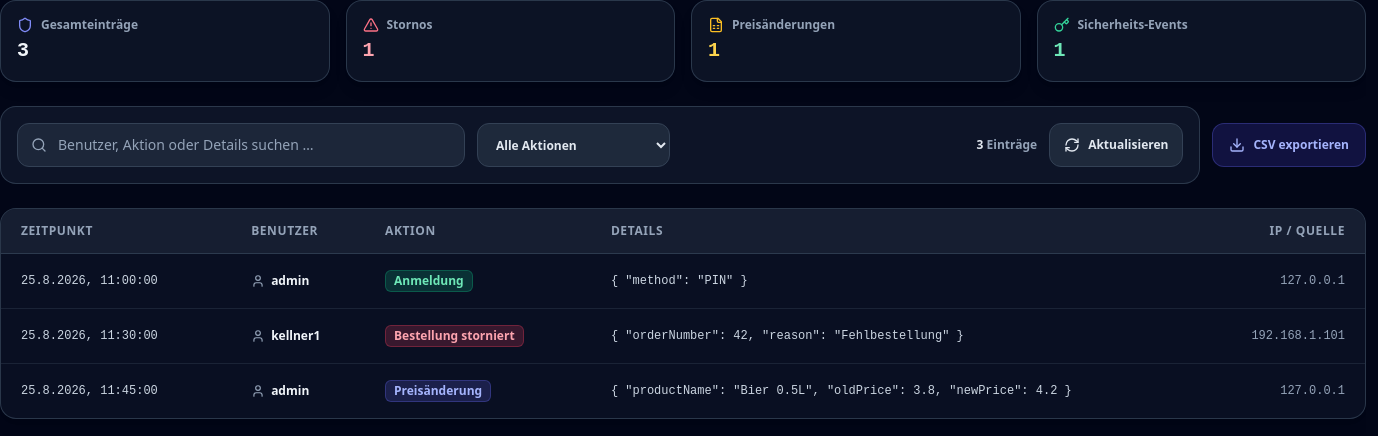
Scenario: AdminAuditView › filtert nach Benutzer oder Aktion
This screenshot has width=1378, height=436.
Type "kellner1" into the field with placeholder "Benutzer, Aktion oder Details suchen …".
click(241, 145); type("kellner1")  # box top-left (17, 123), bottom-right (465, 167)
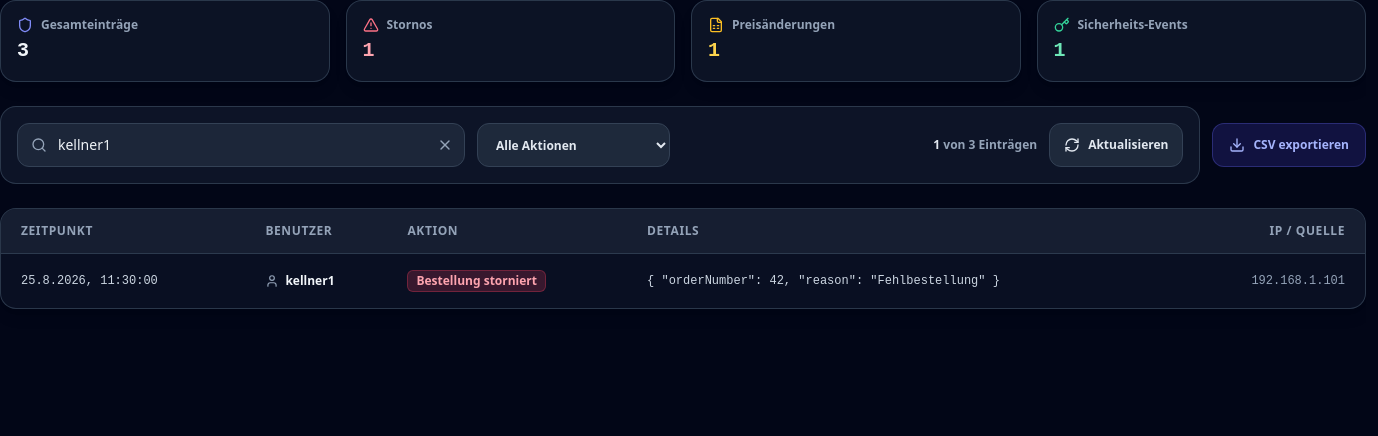
Expected: the text "kellner1" is shown, top-left (285, 273), bottom-right (334, 289)
Now the text "Bier 0.5L" is gone
